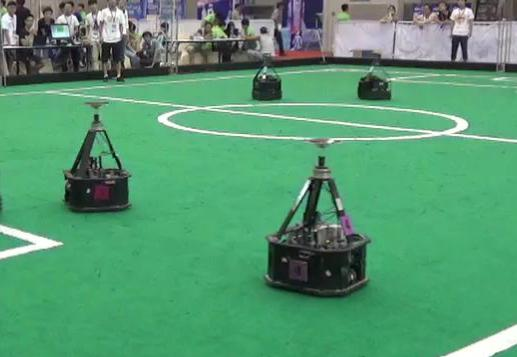robot: (258, 131, 376, 299), (54, 97, 139, 213), (353, 45, 396, 103), (247, 49, 290, 105)
